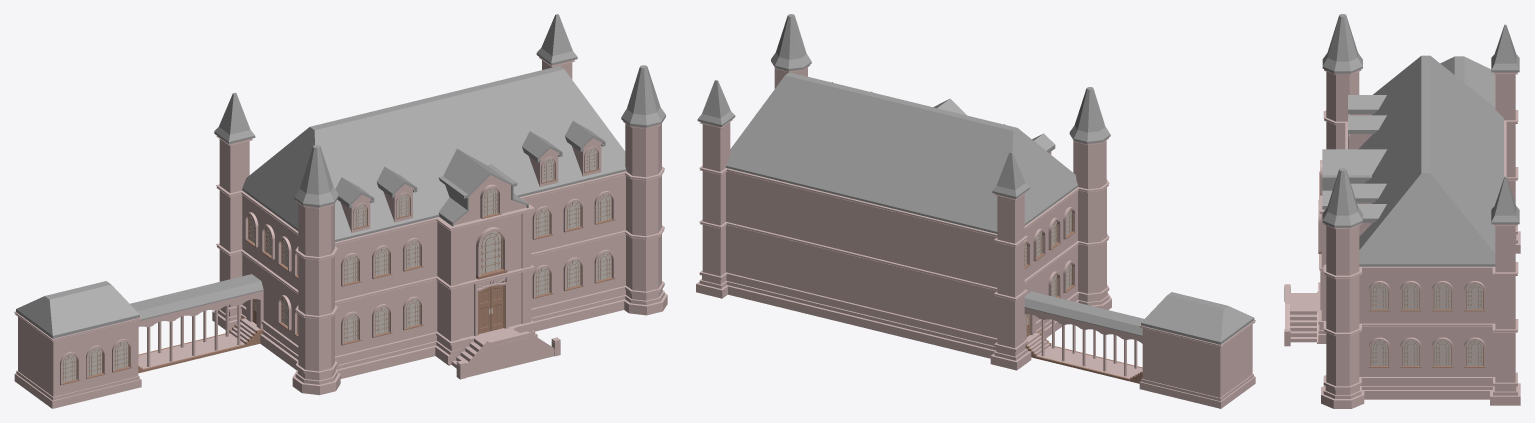
File: 893_european_style_house.glb
3 views of the same model, side by side, from view 1: azimuth 30°, elevation 25°; view 2: azimuth 150°, elevation 25°; view 3: azimuth 270°, elevation 25° (orthographic). The views are drawn at different scales.
Visible parts, largest first — view 1: Body, hanare, rouka; view 2: Body, hanare, rouka; view 3: Body, hanare.
Part boxes in pixels (x1,y1,x2,y2): Body: [212, 14, 667, 395]; hanare: [14, 281, 141, 408]; rouka: [130, 274, 263, 373]; Body: [696, 14, 1111, 370]; hanare: [1139, 292, 1255, 408]; rouka: [1024, 291, 1143, 383]; Body: [1284, 14, 1520, 408]; hanare: [1440, 56, 1495, 107].
Bounding box in the file's own units: 53 × 21.21 × 19.75.
